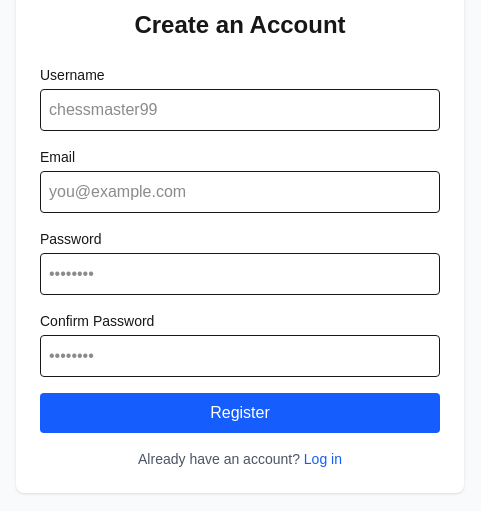
Test case: RegisterPage › handles form submission loading state
The image size is (481, 511).
In the field labelled "Username": (240,110) [40,89,440,131], type "testuser"
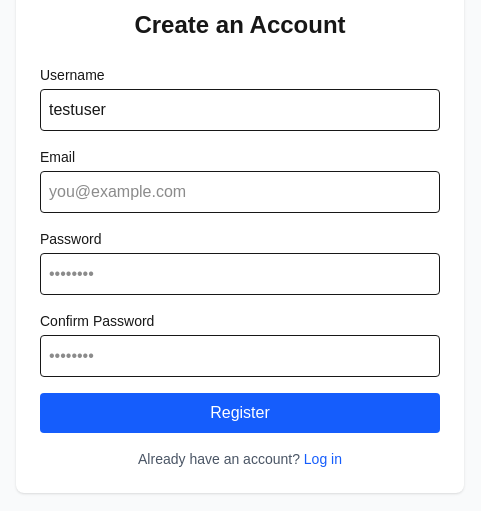
In the field labelled "Email": (240,192) [40,171,440,213], type "test@example.com"
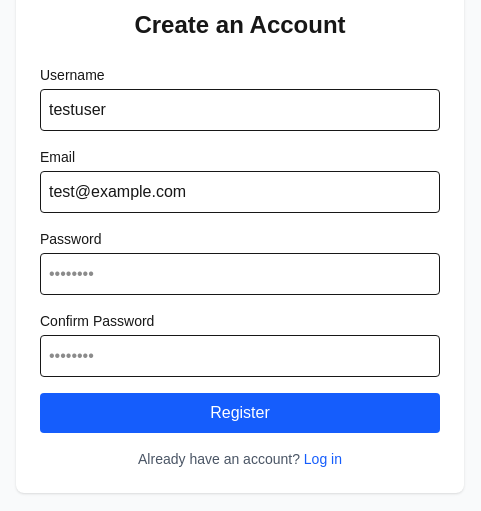
In the password field labelled "Password": (240,274) [40,253,440,295], type "password123"
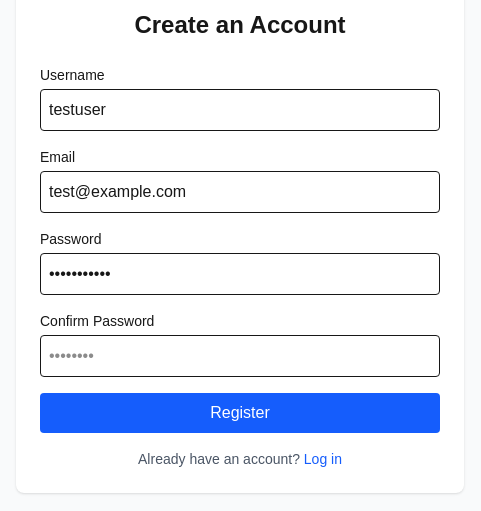
In the password field labelled "Confirm Password": (240,356) [40,335,440,377], type "password123"
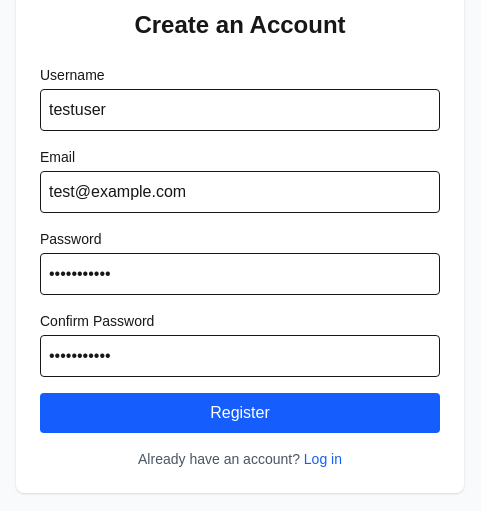
Click the button "Register": (240,413) [40,393,440,433]
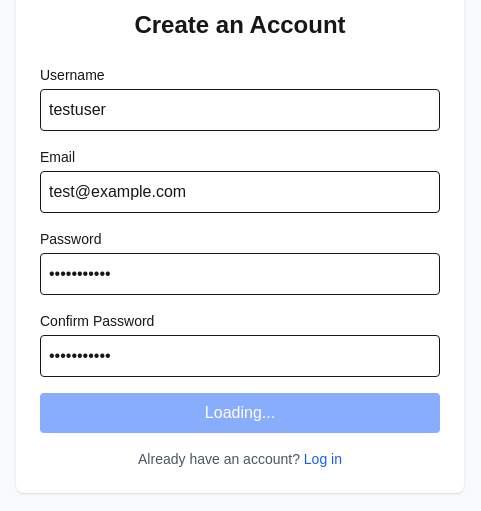
Check: the button "Loading..." is disabled, box [40,393,440,433]
